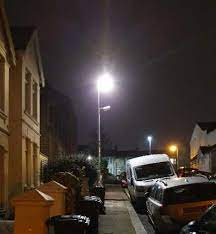HPS: (166, 142, 181, 154)
LED: (90, 69, 118, 98)
